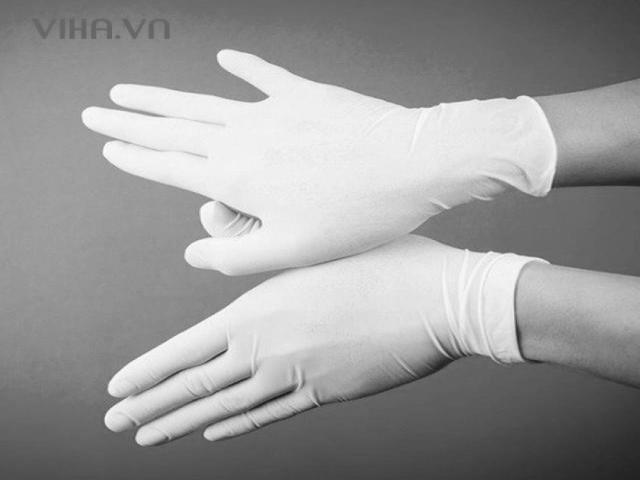gloved: (102, 199, 466, 447), (81, 48, 452, 272)
